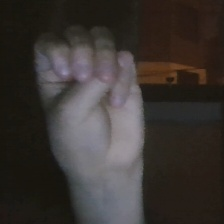M: (23, 17, 162, 186)
